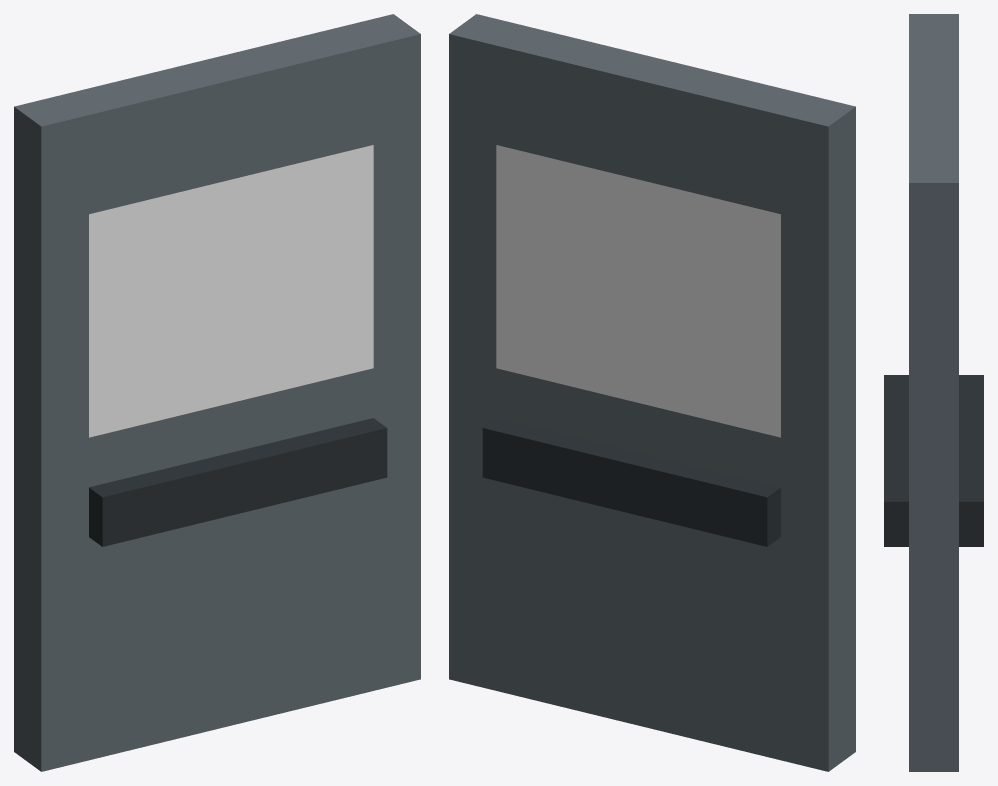
The model's file is pintu kelas.obj.
3 views of the same model, side by side, from view 1: azimuth 30°, elevation 25°; view 2: azimuth 150°, elevation 25°; view 3: azimuth 270°, elevation 25° (orthographic). The views are drawn at different scales.
Size of the model in its own units: 1.6 by 2.6 by 0.4.
1 material, 1 textured.
